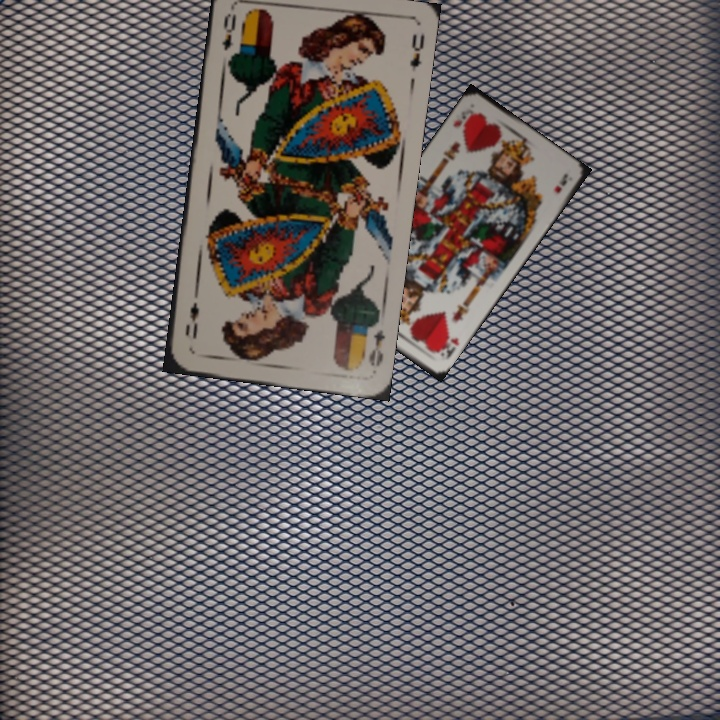EO: (364, 326, 388, 369), (217, 9, 239, 54)
HK: (433, 331, 462, 362), (449, 105, 477, 131)
